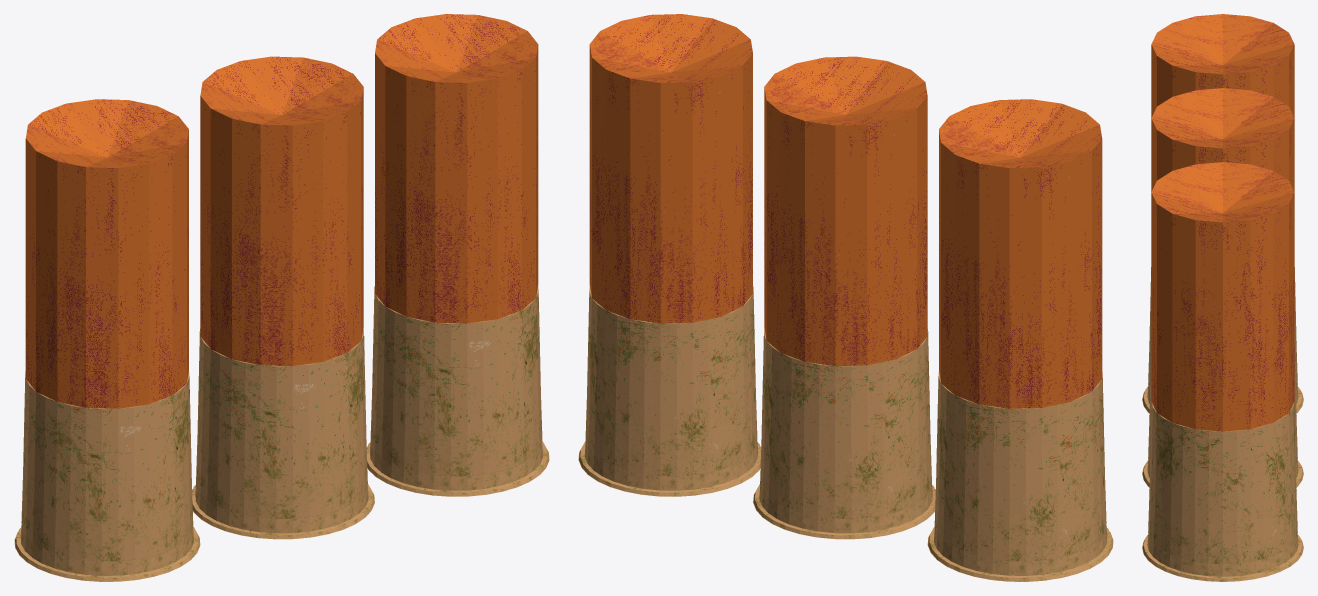
The model's file is shell.glb.
The picture shows the model from 3 angles, left to right: view 1: azimuth 30°, elevation 25°; view 2: azimuth 150°, elevation 25°; view 3: azimuth 270°, elevation 25°; orthographic projection. The views are drawn at different scales.
Visible parts, largest first — view 1: shell.002, shell, shell.001; view 2: shell.002, shell, shell.001; view 3: shell.001, shell.002, shell.
Part boxes in pixels (x1=…): shell.002: x1=14, y1=99, x2=200, y2=581; shell: x1=192, y1=56, x2=374, y2=539; shell.001: x1=366, y1=14, x2=549, y2=496; shell.002: x1=927, y1=99, x2=1113, y2=581; shell: x1=753, y1=56, x2=935, y2=539; shell.001: x1=578, y1=14, x2=761, y2=496; shell.001: x1=1142, y1=162, x2=1303, y2=581; shell.002: x1=1142, y1=14, x2=1303, y2=413; shell: x1=1142, y1=88, x2=1303, y2=487.
Bounding box in the file's own units: 0.0895 × 0.0686 × 0.0283.
3 materials, 3 textured.
